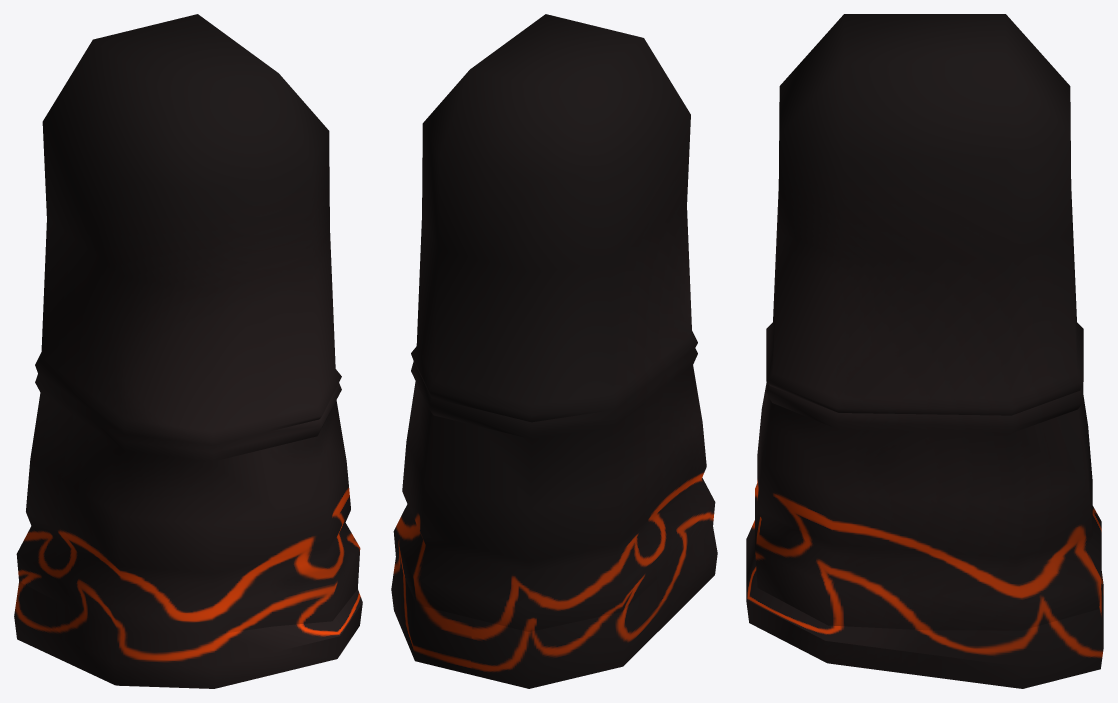
Rendered from pants L.obj.
The picture shows the model from 3 angles, left to right: view 1: azimuth 30°, elevation 25°; view 2: azimuth 150°, elevation 25°; view 3: azimuth 270°, elevation 25°; orthographic projection. The views are drawn at different scales.
Visible parts, largest first — view 1: pants_L; view 2: pants_L; view 3: pants_L.
Part boxes in pixels (x1=…): pants_L: x1=14, y1=14, x2=362, y2=688; pants_L: x1=391, y1=14, x2=717, y2=688; pants_L: x1=746, y1=14, x2=1103, y2=688.
Size of the model in its own units: 0.8543 by 1.97 by 1.06.
